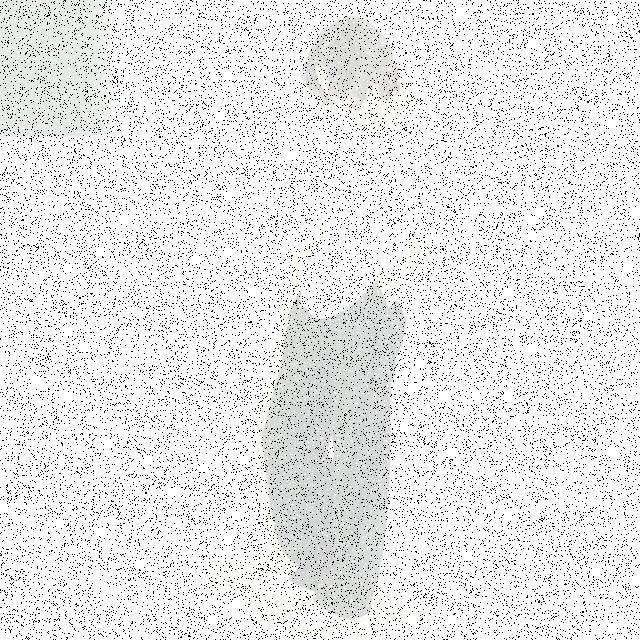Blouse_deep: (261, 274, 408, 611)
